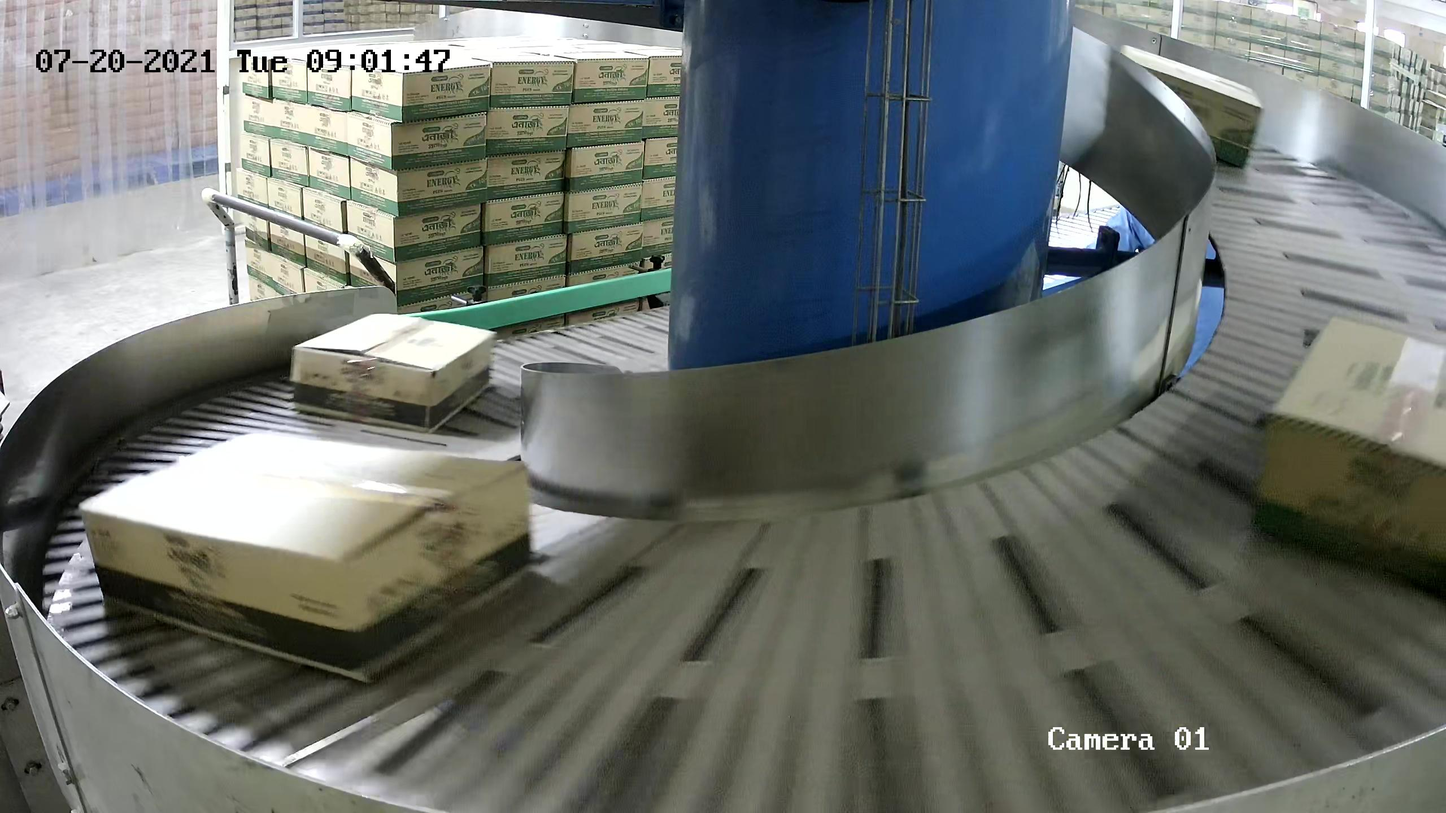Box: (75, 424, 537, 688), (1252, 312, 1446, 605), (287, 310, 499, 435), (1118, 43, 1266, 169)
